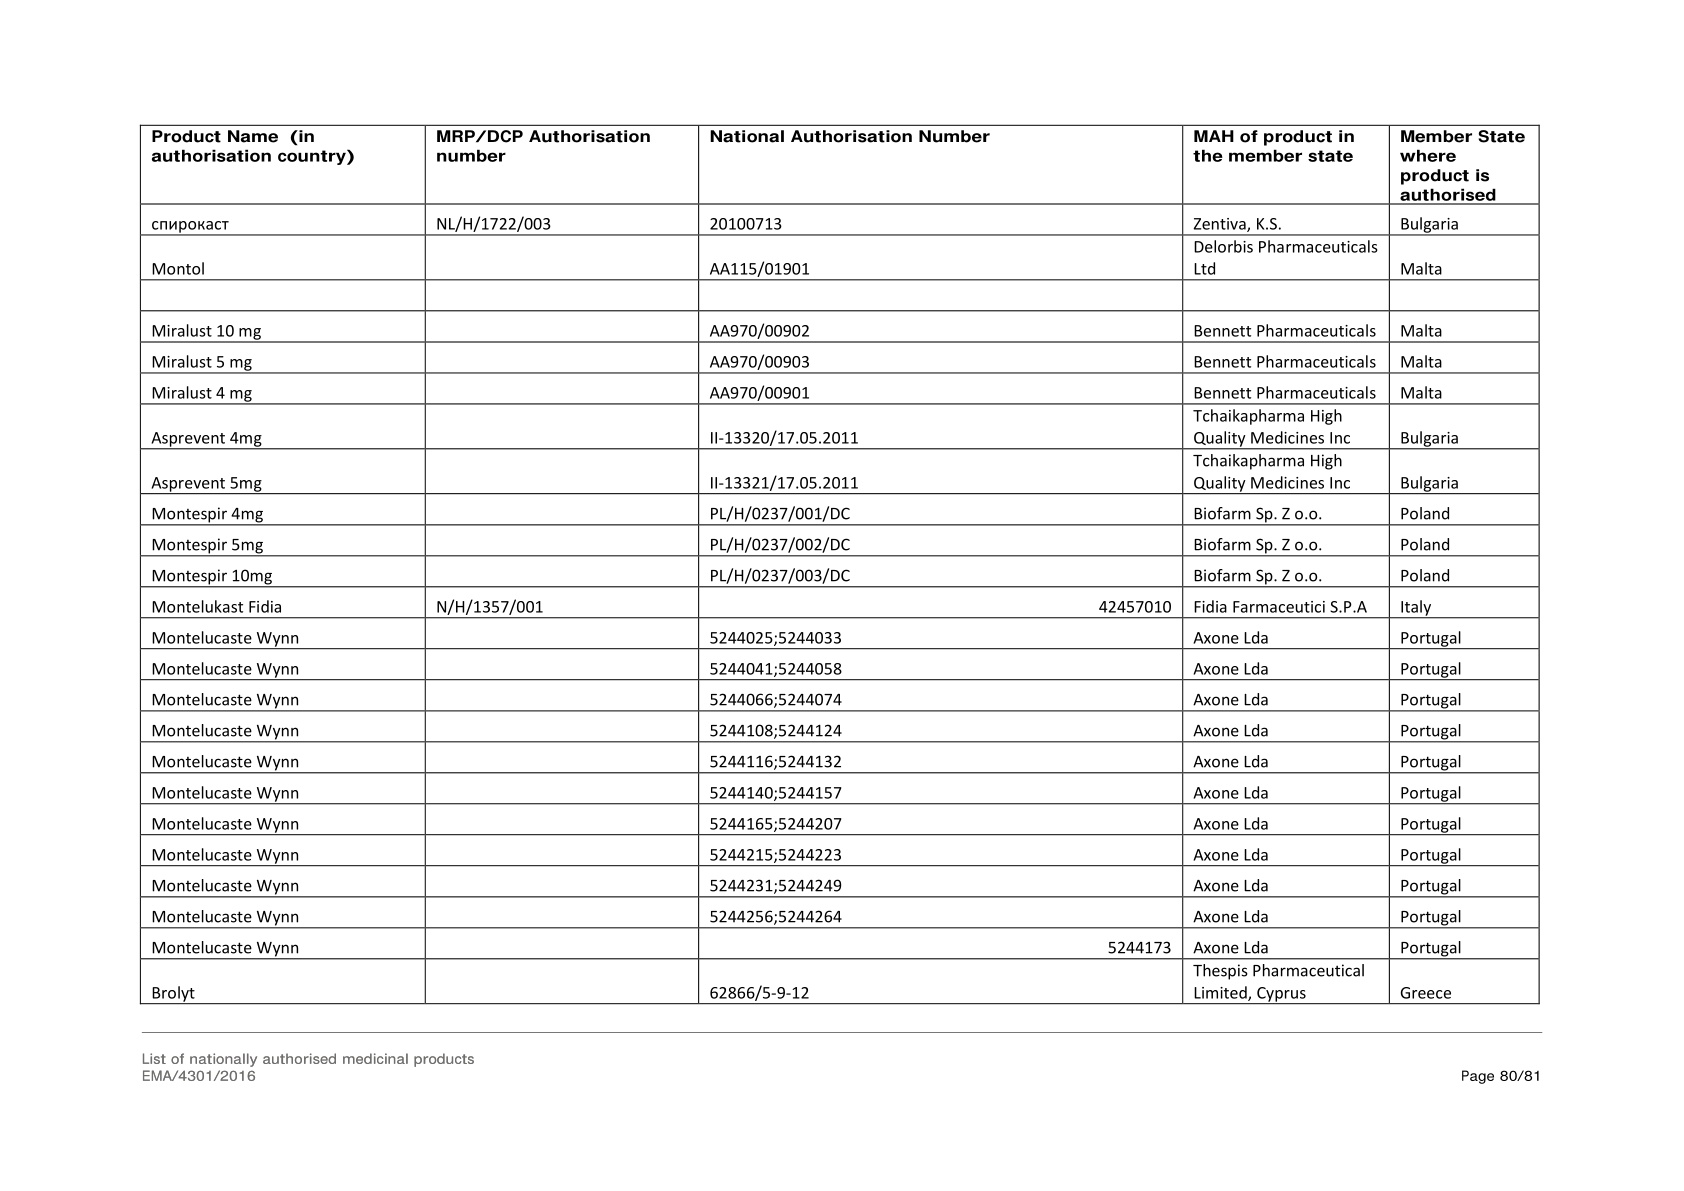full_lined: (138, 124, 1541, 1005)
